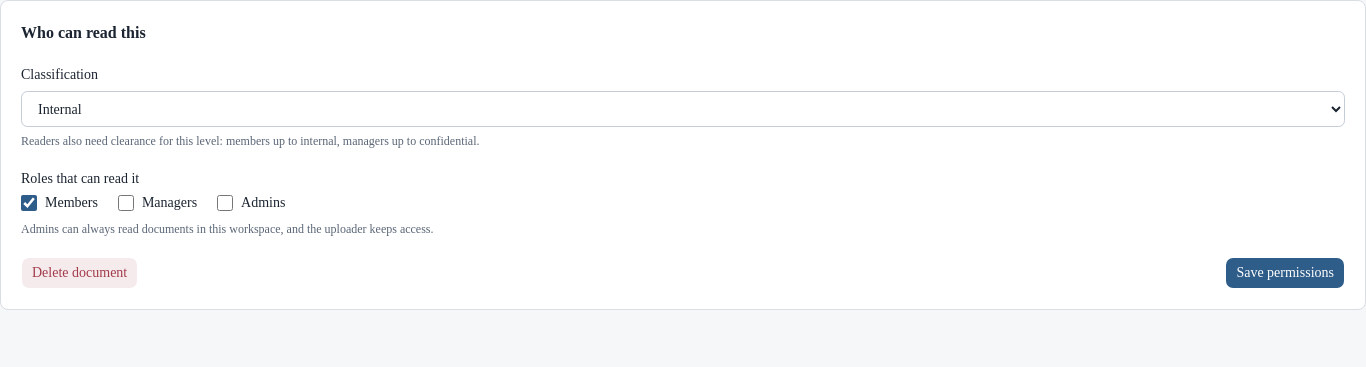
Test: PermissionEditor › keeps the explanation when the latest permissions can no longer be loaded
The image size is (1366, 367).
Click the button "Save permissions" at x=1285, y=273, box [1225,257,1345,289]
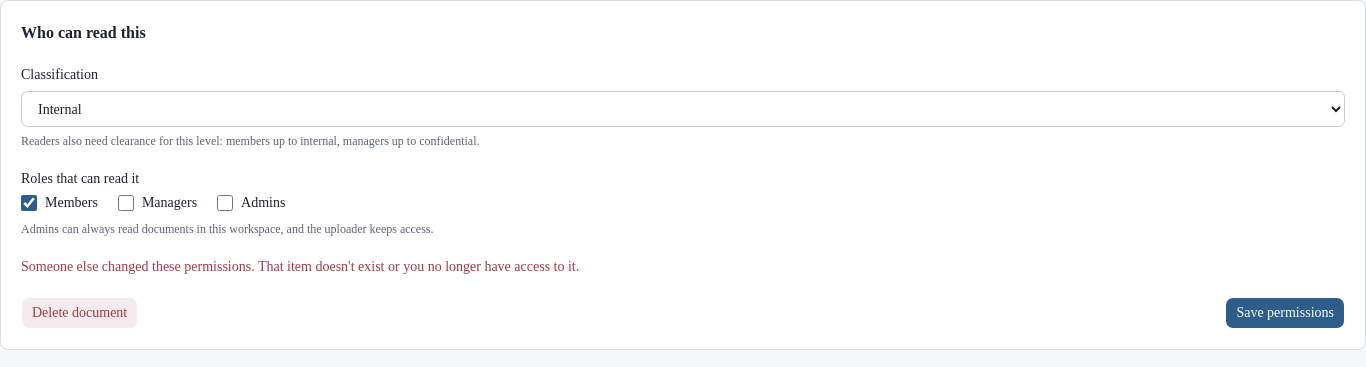
expect the button "Save permissions" is enabled: met, box [1225,297,1345,329]
expect the message shows "Someone else changed": met, box [21,259,579,274]
expect the message shows "no longer have access": met, box [21,259,579,274]
